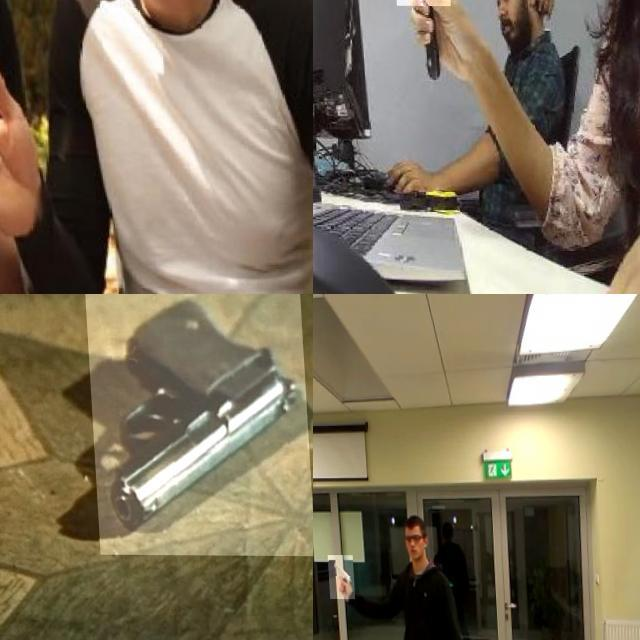-: (0, 6, 42, 188), (383, 0, 446, 102)
gun-knife-thesis - v11 Yolov5 augmented: (81, 294, 309, 555), (324, 555, 351, 599)
